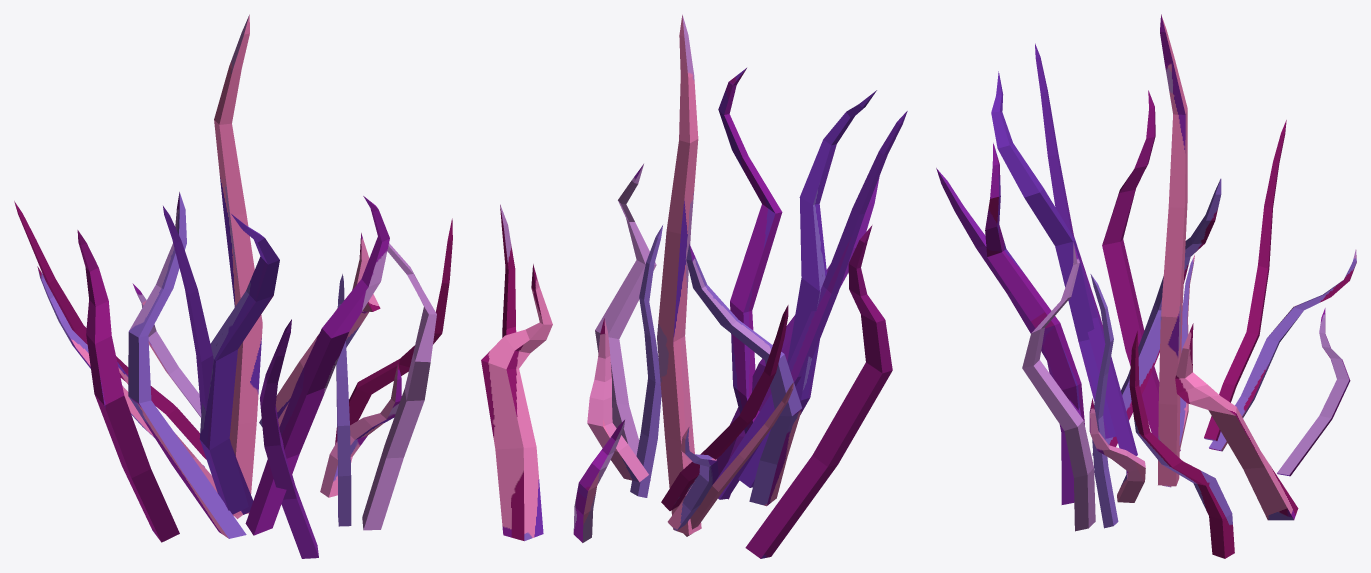
File: Mesh_Grass3.fbx
The picture shows the model from 3 angles, left to right: view 1: azimuth 30°, elevation 25°; view 2: azimuth 150°, elevation 25°; view 3: azimuth 270°, elevation 25°; orthographic projection. The views are drawn at different scales.
Parts seen in each view (by area): view 1: Cube.095, Cube.100, Cube.101, Cube.102, Cube.091, Cube.105, Cube.106, Cube.103, Cube.096, Cube.107, Cube.104, Cube.090 (+3 smaller); view 2: Cube.095, Cube.093, Cube.102, Cube.101, Cube.100, Cube.091, Cube.103, Cube.105, Cube.107, Cube.090, Cube.096, Cube.098 (+4 smaller); view 3: Cube.095, Cube.101, Cube.093, Cube.102, Cube.100, Cube.105, Cube.103, Cube.104, Cube.096, Cube.091, Cube.107, Cube.106 (+4 smaller).
Boxes of the visible parts, x1,y1,x2,y2 form: Cube.095: (214, 14, 262, 515); Cube.100: (245, 196, 389, 535); Cube.101: (199, 214, 279, 514); Cube.102: (77, 230, 179, 542); Cube.091: (128, 192, 246, 538); Cube.105: (362, 243, 436, 530); Cube.106: (260, 319, 318, 558); Cube.103: (163, 206, 253, 514); Cube.096: (14, 201, 206, 459); Cube.107: (336, 274, 351, 526); Cube.104: (335, 218, 452, 444); Cube.090: (320, 364, 401, 497); Cube.095: (657, 14, 701, 534); Cube.093: (481, 264, 552, 541); Cube.102: (745, 225, 892, 558); Cube.101: (738, 90, 876, 487); Cube.100: (718, 68, 782, 433); Cube.091: (686, 244, 802, 506); Cube.103: (715, 111, 907, 499); Cube.105: (595, 164, 656, 480); Cube.107: (630, 225, 662, 497); Cube.090: (587, 318, 648, 482); Cube.096: (661, 305, 788, 510); Cube.098: (573, 420, 624, 542); Cube.095: (1158, 14, 1187, 486); Cube.101: (991, 71, 1116, 438); Cube.093: (1175, 323, 1298, 520); Cube.102: (1102, 90, 1180, 450); Cube.100: (985, 143, 1084, 424); Cube.105: (1022, 242, 1095, 531); Cube.103: (1035, 43, 1137, 455); Cube.104: (1129, 331, 1234, 558); Cube.096: (1204, 120, 1286, 441); Cube.091: (1092, 178, 1221, 455); Cube.107: (1090, 274, 1118, 528); Cube.106: (936, 168, 1081, 504).
Size of the model in its own units: 184 by 242 by 191.
